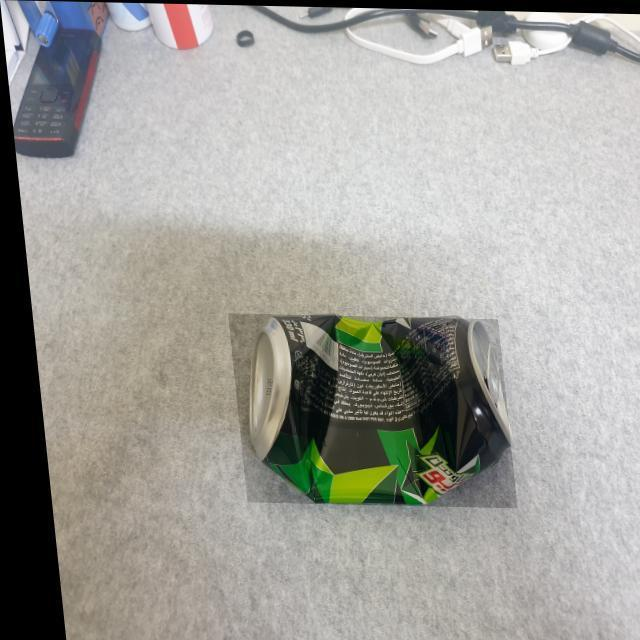trash: (222, 313, 506, 507)
